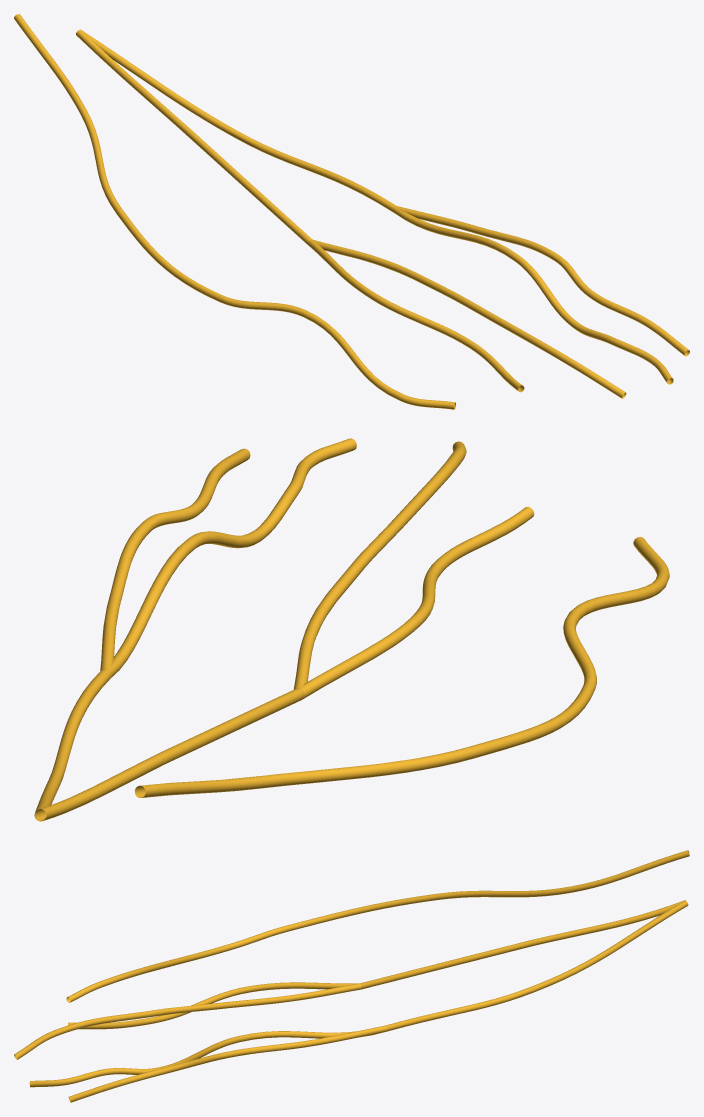
File: nervoso-common-plantar-digital-branches-of-medial-plantar-nerve-l.glb
3 views of the same model, one above another, from view 1: azimuth 30°, elevation 25°; view 2: azimuth 150°, elevation 25°; view 3: azimuth 270°, elevation 25° (orthographic). The views are drawn at different scales.
Visible parts, largest first — view 1: Proper plantar digital branches of medial plantar nerve.l, Common plantar digital branches of medial plantar nerve.l; view 2: Proper plantar digital branches of medial plantar nerve.l, Common plantar digital branches of medial plantar nerve.l; view 3: Proper plantar digital branches of medial plantar nerve.l, Common plantar digital branches of medial plantar nerve.l.
Boxes of the visible parts, x1,y1,x2,y2 form: Proper plantar digital branches of medial plantar nerve.l: [116, 206, 689, 409]; Common plantar digital branches of medial plantar nerve.l: [14, 14, 396, 244]; Proper plantar digital branches of medial plantar nerve.l: [100, 438, 669, 758]; Common plantar digital branches of medial plantar nerve.l: [34, 668, 476, 821]; Proper plantar digital branches of medial plantar nerve.l: [14, 894, 436, 1102]; Common plantar digital branches of medial plantar nerve.l: [360, 850, 689, 1031].
Size of the model in its own units: 0.0554 by 0.0221 by 0.1063.
